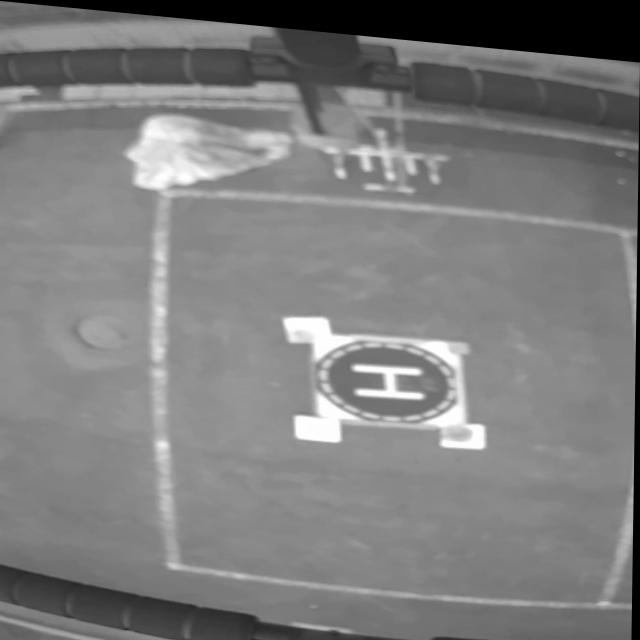Helipad: (352, 354, 425, 391)
